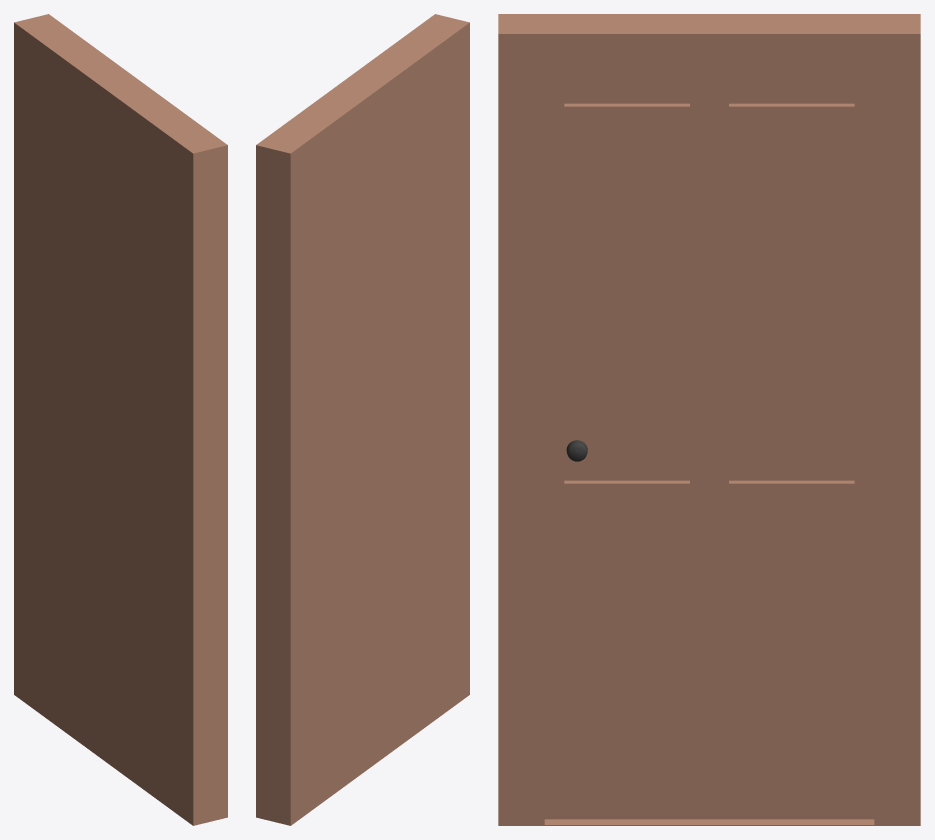
File: puerta.fbx
The picture shows the model from 3 angles, left to right: view 1: azimuth 30°, elevation 25°; view 2: azimuth 150°, elevation 25°; view 3: azimuth 270°, elevation 25°; orthographic projection. The views are drawn at different scales.
Parts seen in each view (by area): view 1: puerta.001; view 2: puerta.001; view 3: puerta.001.
Part boxes in pixels (x1=…): puerta.001: x1=14, y1=14, x2=227, y2=825; puerta.001: x1=256, y1=14, x2=469, y2=825; puerta.001: x1=498, y1=14, x2=920, y2=825.
Bounding box in the file's own units: 251 × 519 × 35.55.
